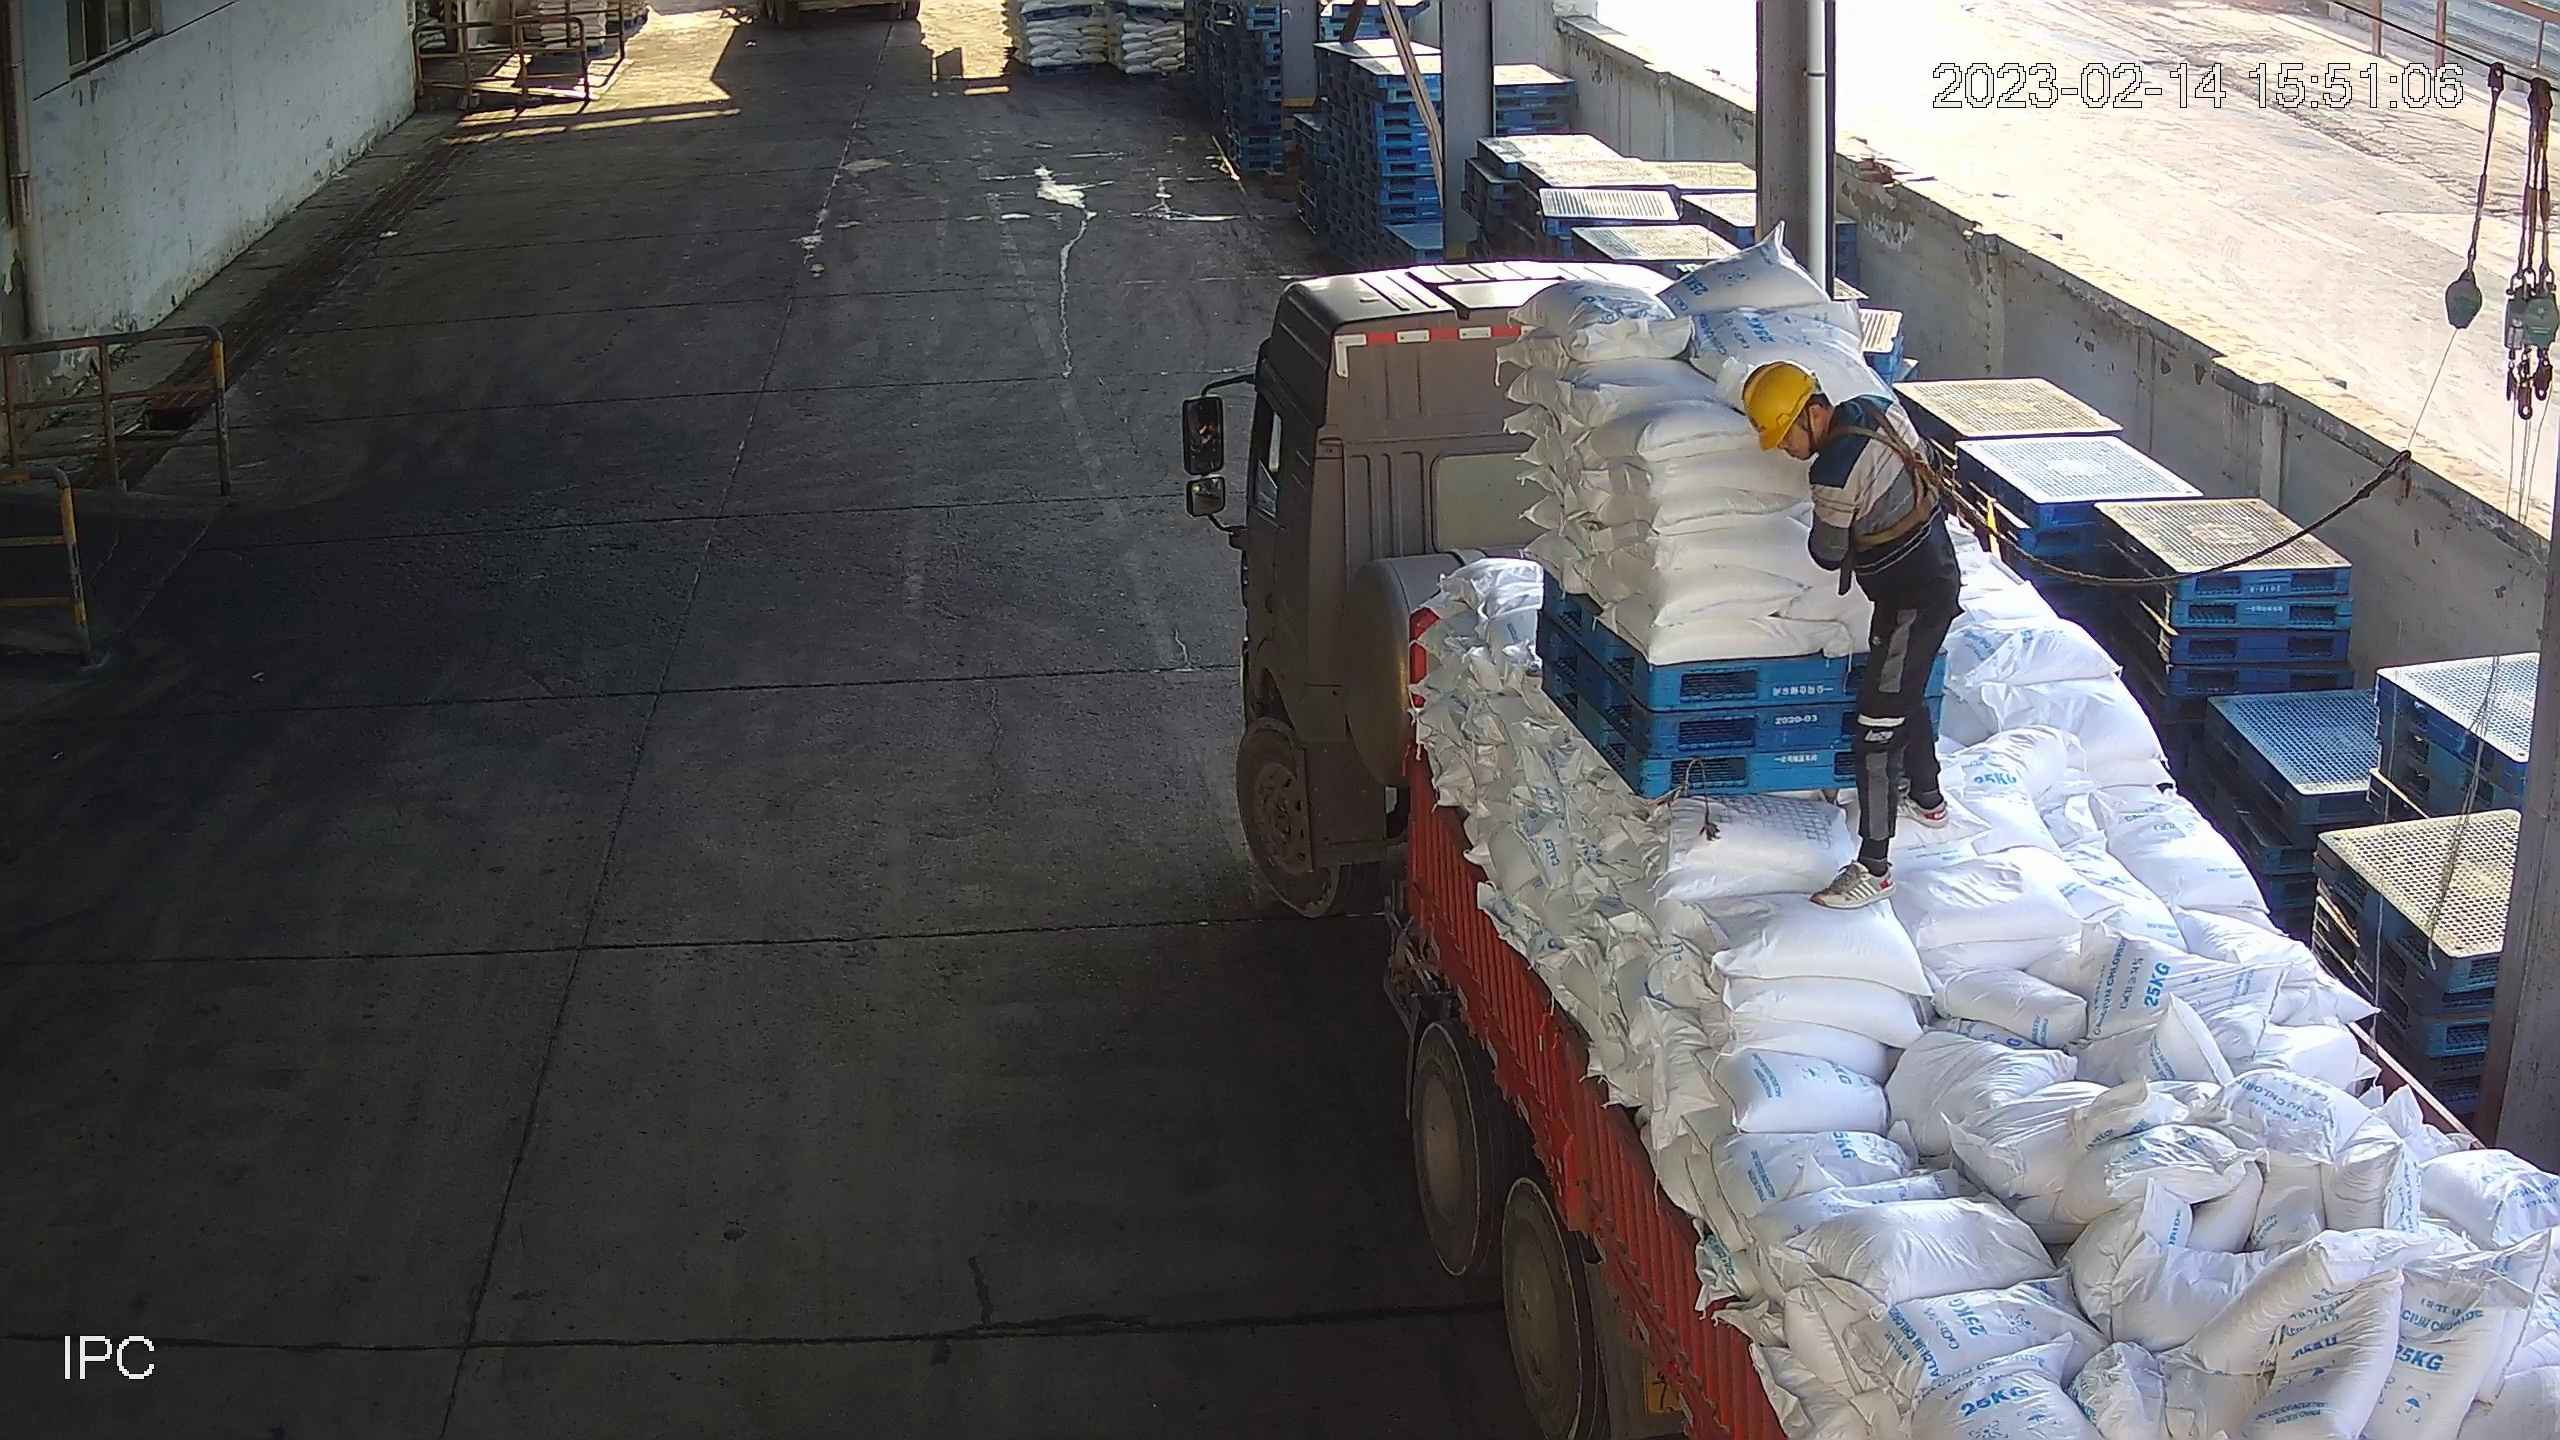belt: (1826, 395, 1978, 552)
head: (1739, 359, 1928, 493)
helmet: (1740, 359, 1821, 453)
people: (1740, 357, 1967, 910)
truck: (1228, 255, 2560, 1440)
